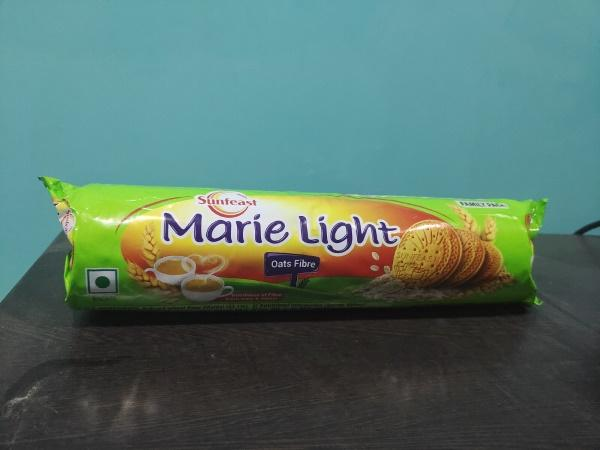MarieLight: (45, 171, 550, 335)
